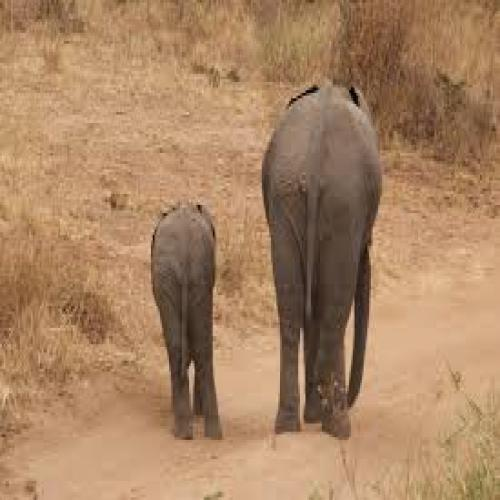asian_elephant-endangered: (262, 84, 382, 435), (150, 203, 222, 439)
